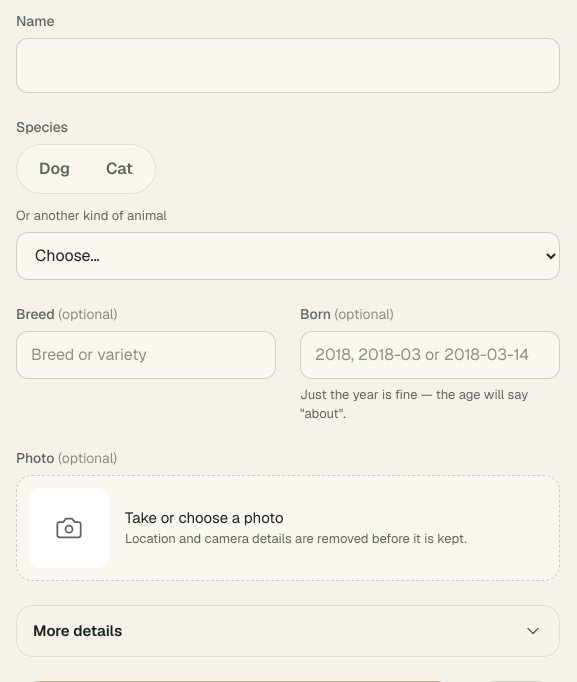
it: Add animal: About link and hint › the typed-kind box says it wants the kind of animal, not its name
Select "Something else — I'll type it" in the dropdown labelled "Or another kind of animal" at point(288, 256), box [16,232,560,280]
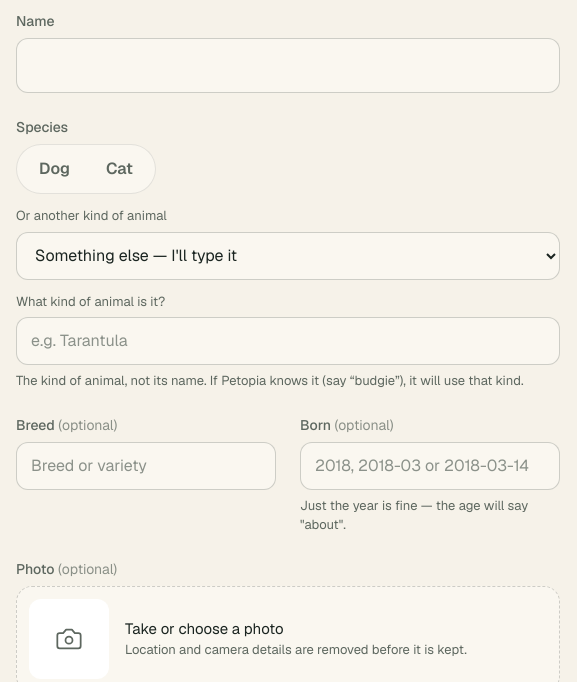
Result: the text "The kind of animal, not its name" is shown at [16,372,524,389]
